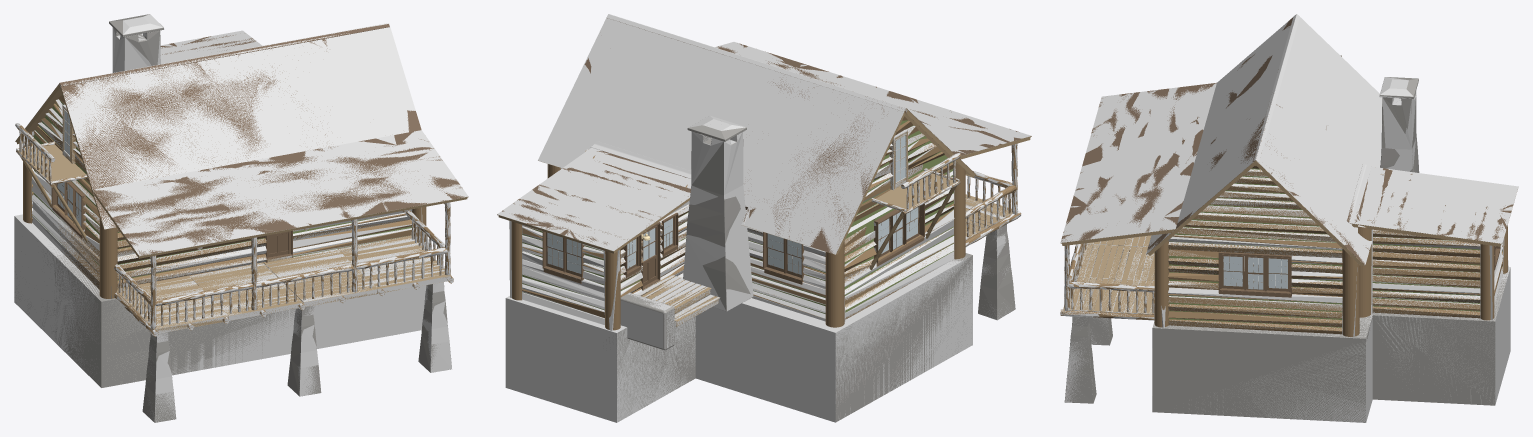
File: log_cabin.glb
3 views of the same model, side by side, from view 1: azimuth 30°, elevation 25°; view 2: azimuth 150°, elevation 25°; view 3: azimuth 270°, elevation 25° (orthographic). The views are drawn at different scales.
Parts seen in each view (by area): view 1: COLL, EXT_roof, EXT_stone, EXT_logs, TERRACE_deck, EXT_trim, EXT_moss, INT_floor, EXT_frames, EXT_glass, INT_furniture; view 2: COLL, EXT_stone, EXT_logs, EXT_roof, EXT_frames, EXT_glass, EXT_moss, EXT_trim, EXT_decks, INT_floor, TERRACE_deck; view 3: COLL, EXT_stone, EXT_logs, EXT_roof, TERRACE_deck, EXT_moss, EXT_trim, EXT_frames, EXT_glass.
Boxes of the visible parts, x1,y1,x2,y2 form: COLL: [14, 14, 468, 422]; EXT_roof: [25, 24, 465, 255]; EXT_stone: [14, 14, 451, 422]; EXT_logs: [16, 95, 453, 336]; TERRACE_deck: [117, 235, 450, 331]; EXT_trim: [15, 83, 468, 258]; EXT_moss: [32, 95, 411, 287]; INT_floor: [18, 144, 86, 181]; EXT_frames: [51, 181, 85, 238]; EXT_glass: [57, 111, 81, 226]; INT_furniture: [59, 84, 292, 262]; COLL: [497, 14, 1031, 422]; EXT_stone: [606, 125, 1015, 422]; EXT_logs: [511, 116, 1021, 330]; EXT_roof: [502, 18, 1031, 253]; EXT_frames: [542, 203, 924, 290]; EXT_glass: [547, 135, 918, 274]; EXT_moss: [522, 120, 953, 313]; EXT_trim: [497, 108, 1031, 269]; EXT_decks: [640, 130, 908, 326]; INT_floor: [876, 171, 957, 209]; TERRACE_deck: [965, 194, 1012, 239]; COLL: [1060, 14, 1518, 422]; EXT_stone: [1064, 77, 1508, 422]; EXT_logs: [1060, 55, 1507, 336]; EXT_roof: [1061, 17, 1513, 265]; TERRACE_deck: [1063, 235, 1154, 314]; EXT_moss: [1169, 168, 1502, 327]; EXT_trim: [1060, 160, 1501, 266]; EXT_frames: [1218, 246, 1500, 297]; EXT_glass: [1223, 246, 1495, 289].
Bounding box in the file's own units: 13 × 9.42 × 15.08.
